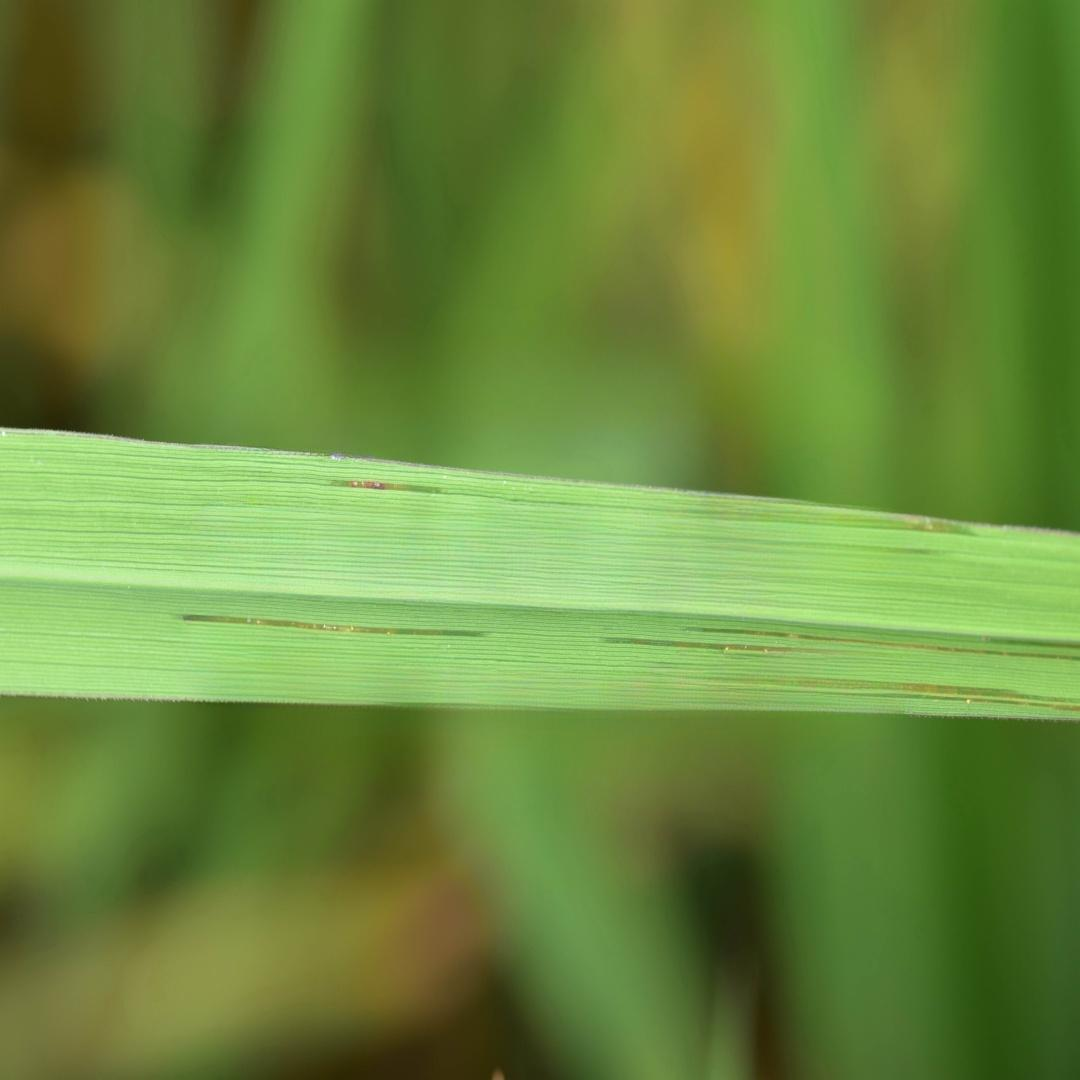BLS: (688, 629, 1079, 661), (709, 676, 1078, 703), (702, 689, 1079, 711), (182, 614, 490, 636), (604, 638, 896, 656), (330, 480, 445, 495)
LEAF: (0, 428, 1079, 717)
